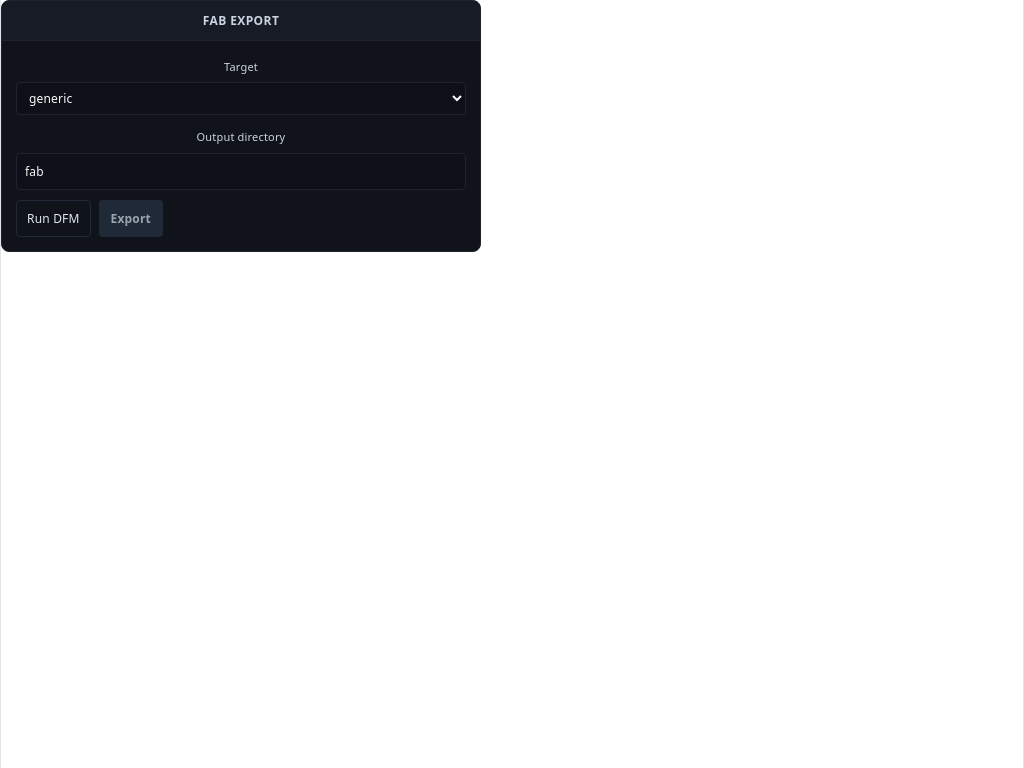
Test: FabExportDialog › clean DFM enables Export; clicking it shows the per-artifact summary
Step 1. Click the button with test id "fab-dfm-run" → x=53, y=218, box [16,200,91,237]
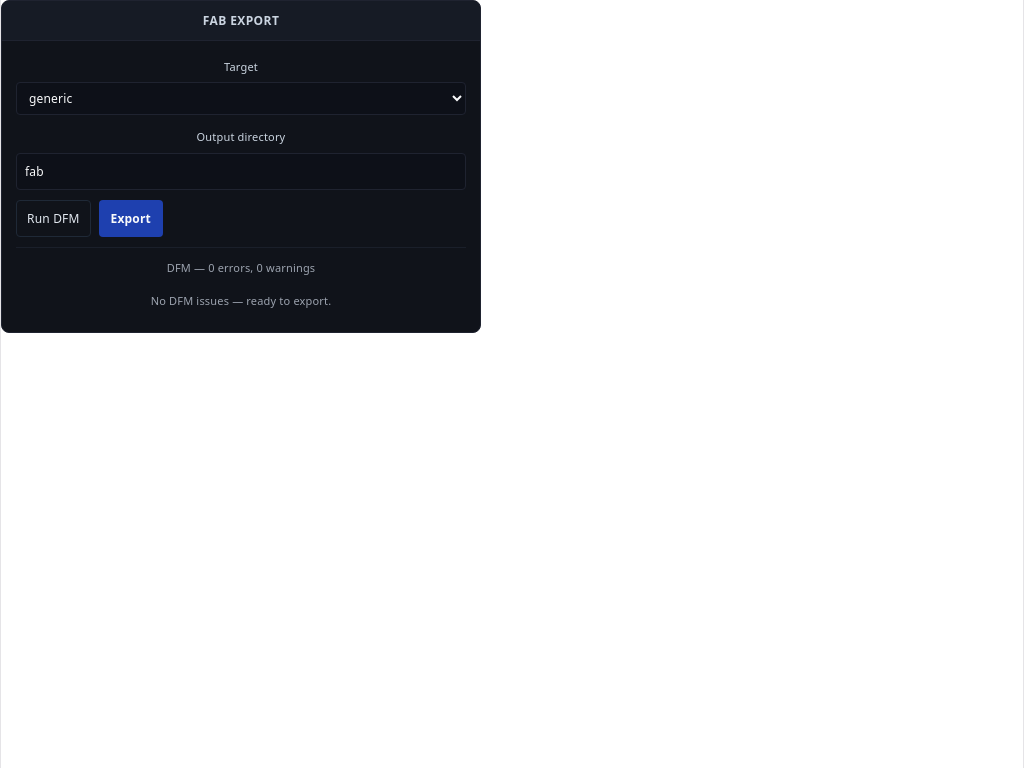
Expected: the button with test id "fab-export" is enabled
Step 2. Click the button with test id "fab-export" → x=131, y=218, box [99,200,163,237]
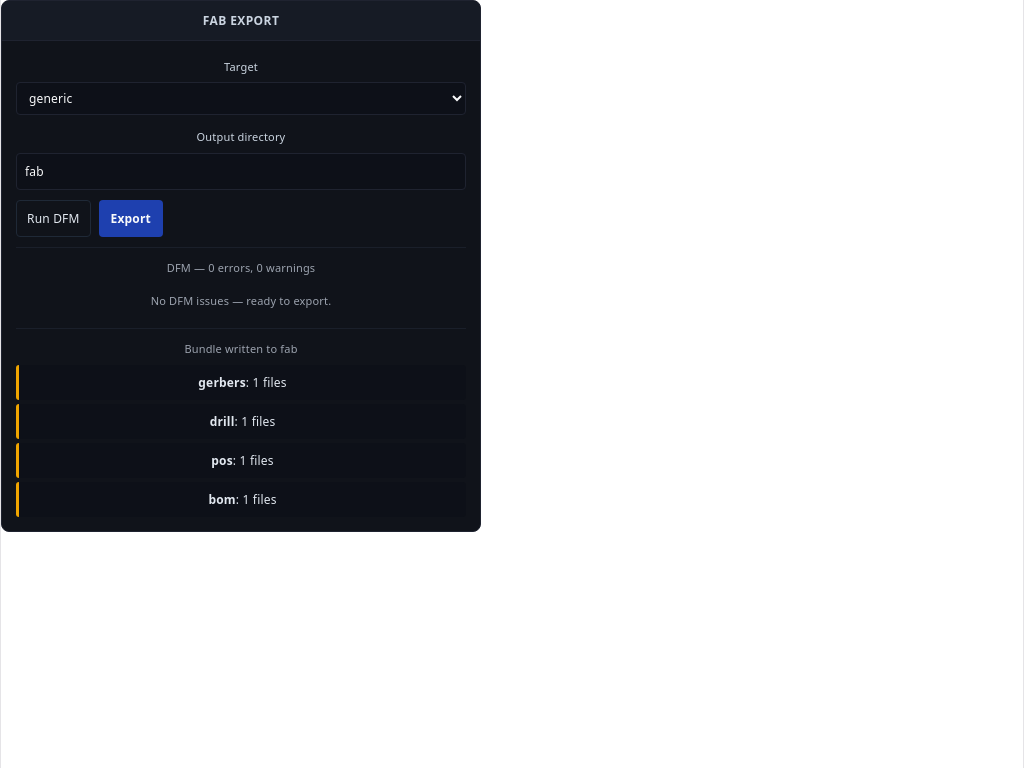
Expected: the element with test id "fab-export-summary" is shown, [16,328,466,517]
Expected: the number of list items with test id "fab-artifact-row" is 4, [16,365,466,400]; [16,404,466,439]; [16,443,466,478]; [16,482,466,517]
